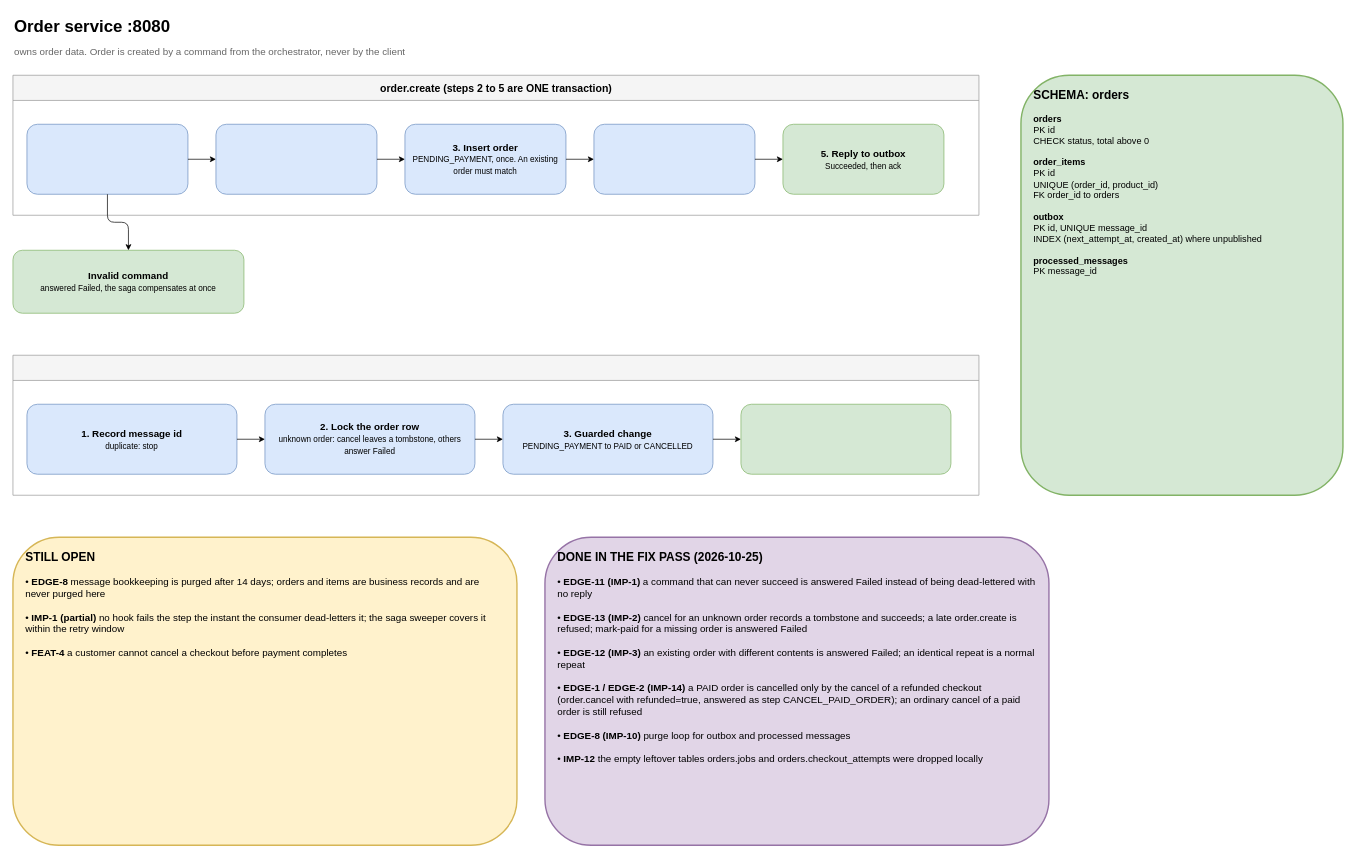
This 1355x858 diagram has some shape labels left out. The box of each missing label's shape, as (x1, y1, x2, y2) in pixels:
1. Validate fields, items, total: (26, 124, 188, 194)
2. Record message id duplicate: stop. Tombstone: refuse: (215, 124, 377, 194)
4. Insert items only if order is new: (593, 124, 755, 194)
4. Reply to outbox Succeeded or Failed: (740, 404, 951, 474)
order.mark-paid and order.cancel (later stages, one transaction): (12, 355, 979, 495)
